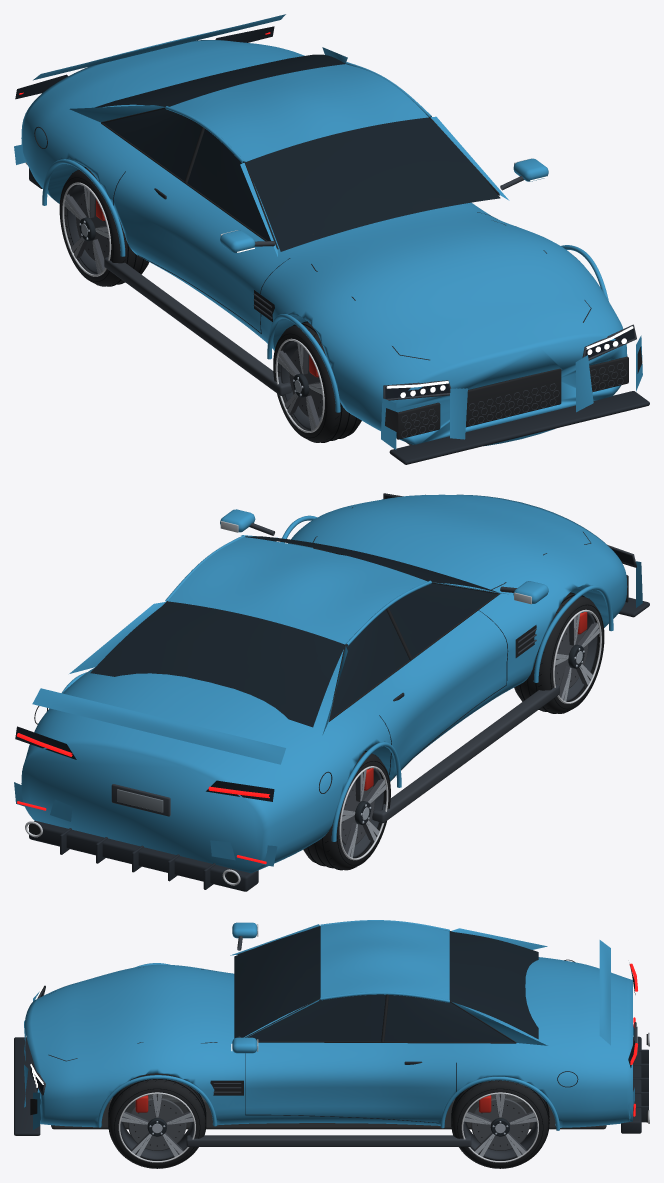
The model's file is supra.glb.
3 views of the same model, one above another, from view 1: azimuth 30°, elevation 25°; view 2: azimuth 150°, elevation 25°; view 3: azimuth 270°, elevation 25° (orthographic). The views are drawn at different scales.
Visible parts, largest first — view 1: Web_Chassis_Rig_supra_Exterior_NewPaint, Web_Chassis_Rig_Detail_Glass_Tinted, Web_Chassis_Rig_Rubber, Web_Chassis_Rig_Graphite metal, Web_Chassis_Rig_Finish_CarbonWeave, Web_Wheel_FR_Rubber, Web_Wheel_RR_Rubber, Web_Chassis_Rig_Finish_LampPolymer, Finish_SplitSpokes_FR, Finish_SplitSpokes_RR, Web_Chassis_Rig_White LED, Brake rotor.001 (+3 smaller); view 2: Web_Chassis_Rig_supra_Exterior_NewPaint, Web_Chassis_Rig_Detail_Glass_Tinted, Web_Chassis_Rig_Finish_CarbonWeave, Web_Chassis_Rig_Graphite metal, Web_Wheel_FR_Rubber, Web_Wheel_RR_Rubber, Web_Chassis_Rig_Rubber, Web_Chassis_Rig_Finish_LampPolymer, Finish_SplitSpokes_RR, Finish_SplitSpokes_FR, Web_Chassis_Rig_Red LED, Brake rotor (+4 smaller); view 3: Web_Chassis_Rig_supra_Exterior_NewPaint, Web_Chassis_Rig_Detail_Glass_Tinted, Web_Chassis_Rig_Graphite metal, Web_Chassis_Rig_Finish_CarbonWeave, Continuous_central_floor_pan, Web_Wheel_FL_Rubber, Web_Wheel_RL_Rubber, Web_Chassis_Rig_Rubber, Brake rotor.003, Brake rotor.002, Finish_SplitSpokes_FL, Finish_SplitSpokes_RL (+6 smaller).
Part boxes in pixels (bbox=[...]): Web_Chassis_Rig_supra_Exterior_NewPaint: bbox=[14, 14, 642, 449]; Web_Chassis_Rig_Detail_Glass_Tinted: bbox=[95, 54, 500, 251]; Web_Chassis_Rig_Rubber: bbox=[34, 63, 642, 439]; Web_Chassis_Rig_Graphite metal: bbox=[104, 176, 636, 437]; Web_Chassis_Rig_Finish_CarbonWeave: bbox=[29, 168, 649, 464]; Web_Wheel_FR_Rubber: bbox=[273, 322, 361, 442]; Web_Wheel_RR_Rubber: bbox=[59, 168, 149, 286]; Web_Chassis_Rig_Finish_LampPolymer: bbox=[15, 26, 634, 398]; Finish_SplitSpokes_FR: bbox=[277, 342, 322, 430]; Finish_SplitSpokes_RR: bbox=[64, 186, 108, 274]; Web_Chassis_Rig_White LED: bbox=[237, 176, 633, 397]; Brake rotor.001: bbox=[289, 349, 322, 417]; Web_Chassis_Rig_supra_Exterior_NewPaint: bbox=[14, 494, 642, 873]; Web_Chassis_Rig_Detail_Glass_Tinted: bbox=[90, 536, 497, 727]; Web_Chassis_Rig_Finish_CarbonWeave: bbox=[29, 597, 649, 891]; Web_Chassis_Rig_Graphite metal: bbox=[111, 493, 636, 823]; Web_Wheel_FR_Rubber: bbox=[514, 593, 604, 713]; Web_Wheel_RR_Rubber: bbox=[303, 751, 390, 870]; Web_Chassis_Rig_Rubber: bbox=[28, 494, 628, 882]; Web_Chassis_Rig_Finish_LampPolymer: bbox=[15, 496, 633, 801]; Finish_SplitSpokes_RR: bbox=[341, 770, 386, 857]; Finish_SplitSpokes_FR: bbox=[555, 614, 599, 701]; Web_Chassis_Rig_Red LED: bbox=[16, 733, 269, 864]; Brake rotor: bbox=[341, 781, 374, 845]; Web_Chassis_Rig_supra_Exterior_NewPaint: bbox=[24, 920, 634, 1130]; Web_Chassis_Rig_Detail_Glass_Tinted: bbox=[234, 926, 538, 1042]; Web_Chassis_Rig_Graphite metal: bbox=[30, 936, 636, 1146]; Web_Chassis_Rig_Finish_CarbonWeave: bbox=[14, 1036, 648, 1135]; Continuous_central_floor_pan: bbox=[51, 1094, 606, 1129]; Web_Wheel_FL_Rubber: bbox=[109, 1073, 205, 1168]; Web_Wheel_RL_Rubber: bbox=[452, 1080, 548, 1168]; Web_Chassis_Rig_Rubber: bbox=[30, 926, 647, 1122]; Brake rotor.003: bbox=[128, 1098, 186, 1150]; Brake rotor.002: bbox=[471, 1098, 529, 1150]; Finish_SplitSpokes_FL: bbox=[121, 1094, 193, 1156]; Finish_SplitSpokes_RL: bbox=[464, 1094, 536, 1156].
Bounding box in the file's own units: 2.12 × 1.32 × 4.58.
